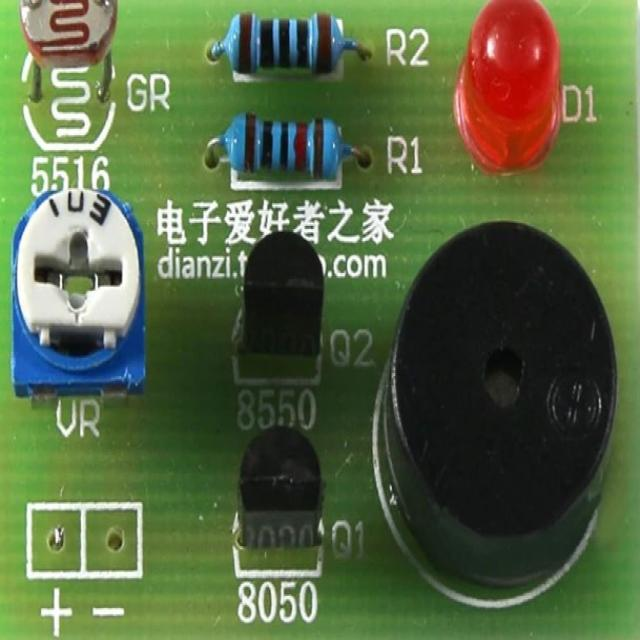LED: (457, 0, 567, 165)
buzzer: (394, 214, 623, 595)
potentiometer POT1: (13, 185, 148, 395)
resistor IR1: (217, 104, 356, 180), (219, 13, 348, 80)
